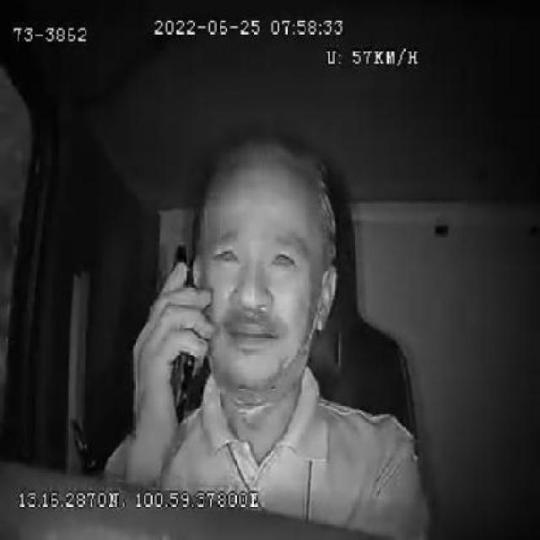phone: (165, 238, 199, 430)
